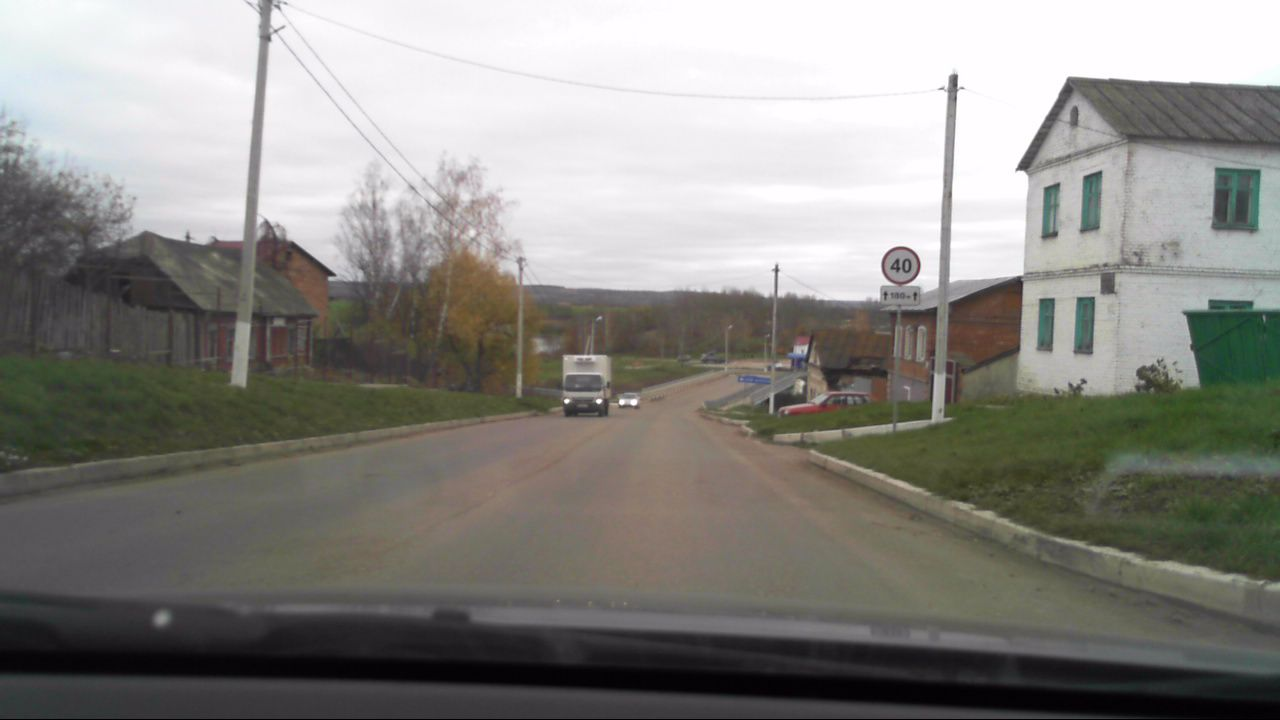speed_warning_40: (881, 246, 921, 284)
